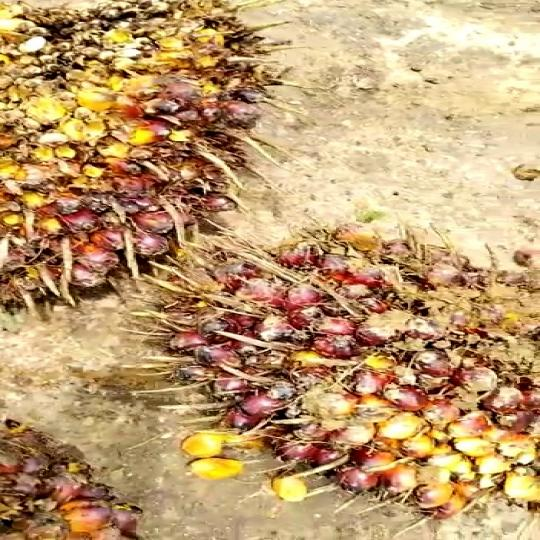masak: (146, 219, 540, 522), (0, 0, 257, 309)
